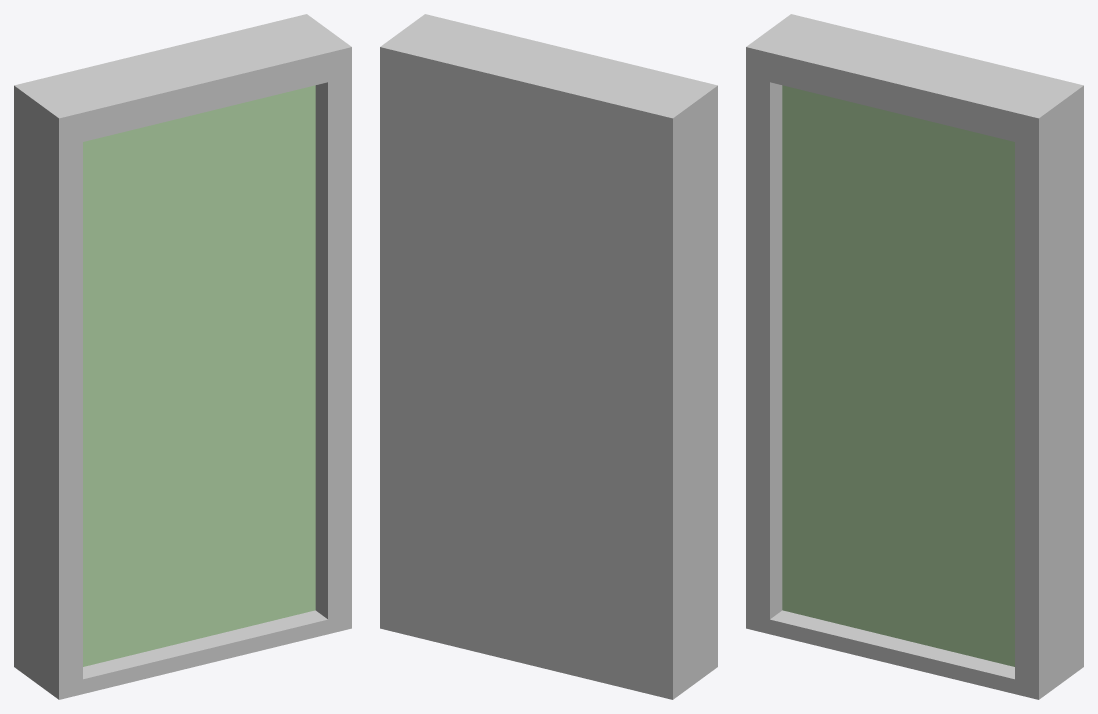
Rendered from door.fbx.
The picture shows the model from 3 angles, left to right: view 1: azimuth 30°, elevation 25°; view 2: azimuth 150°, elevation 25°; view 3: azimuth 330°, elevation 25°; orthographic projection.
Visible parts, largest first — view 1: door; view 2: door; view 3: door.
Boxes of the visible parts, <box> form: door: <box>14,14,351,699</box>; door: <box>380,14,717,699</box>; door: <box>746,14,1083,699</box>.
Size of the model in its own units: 117 by 223 by 31.33.
